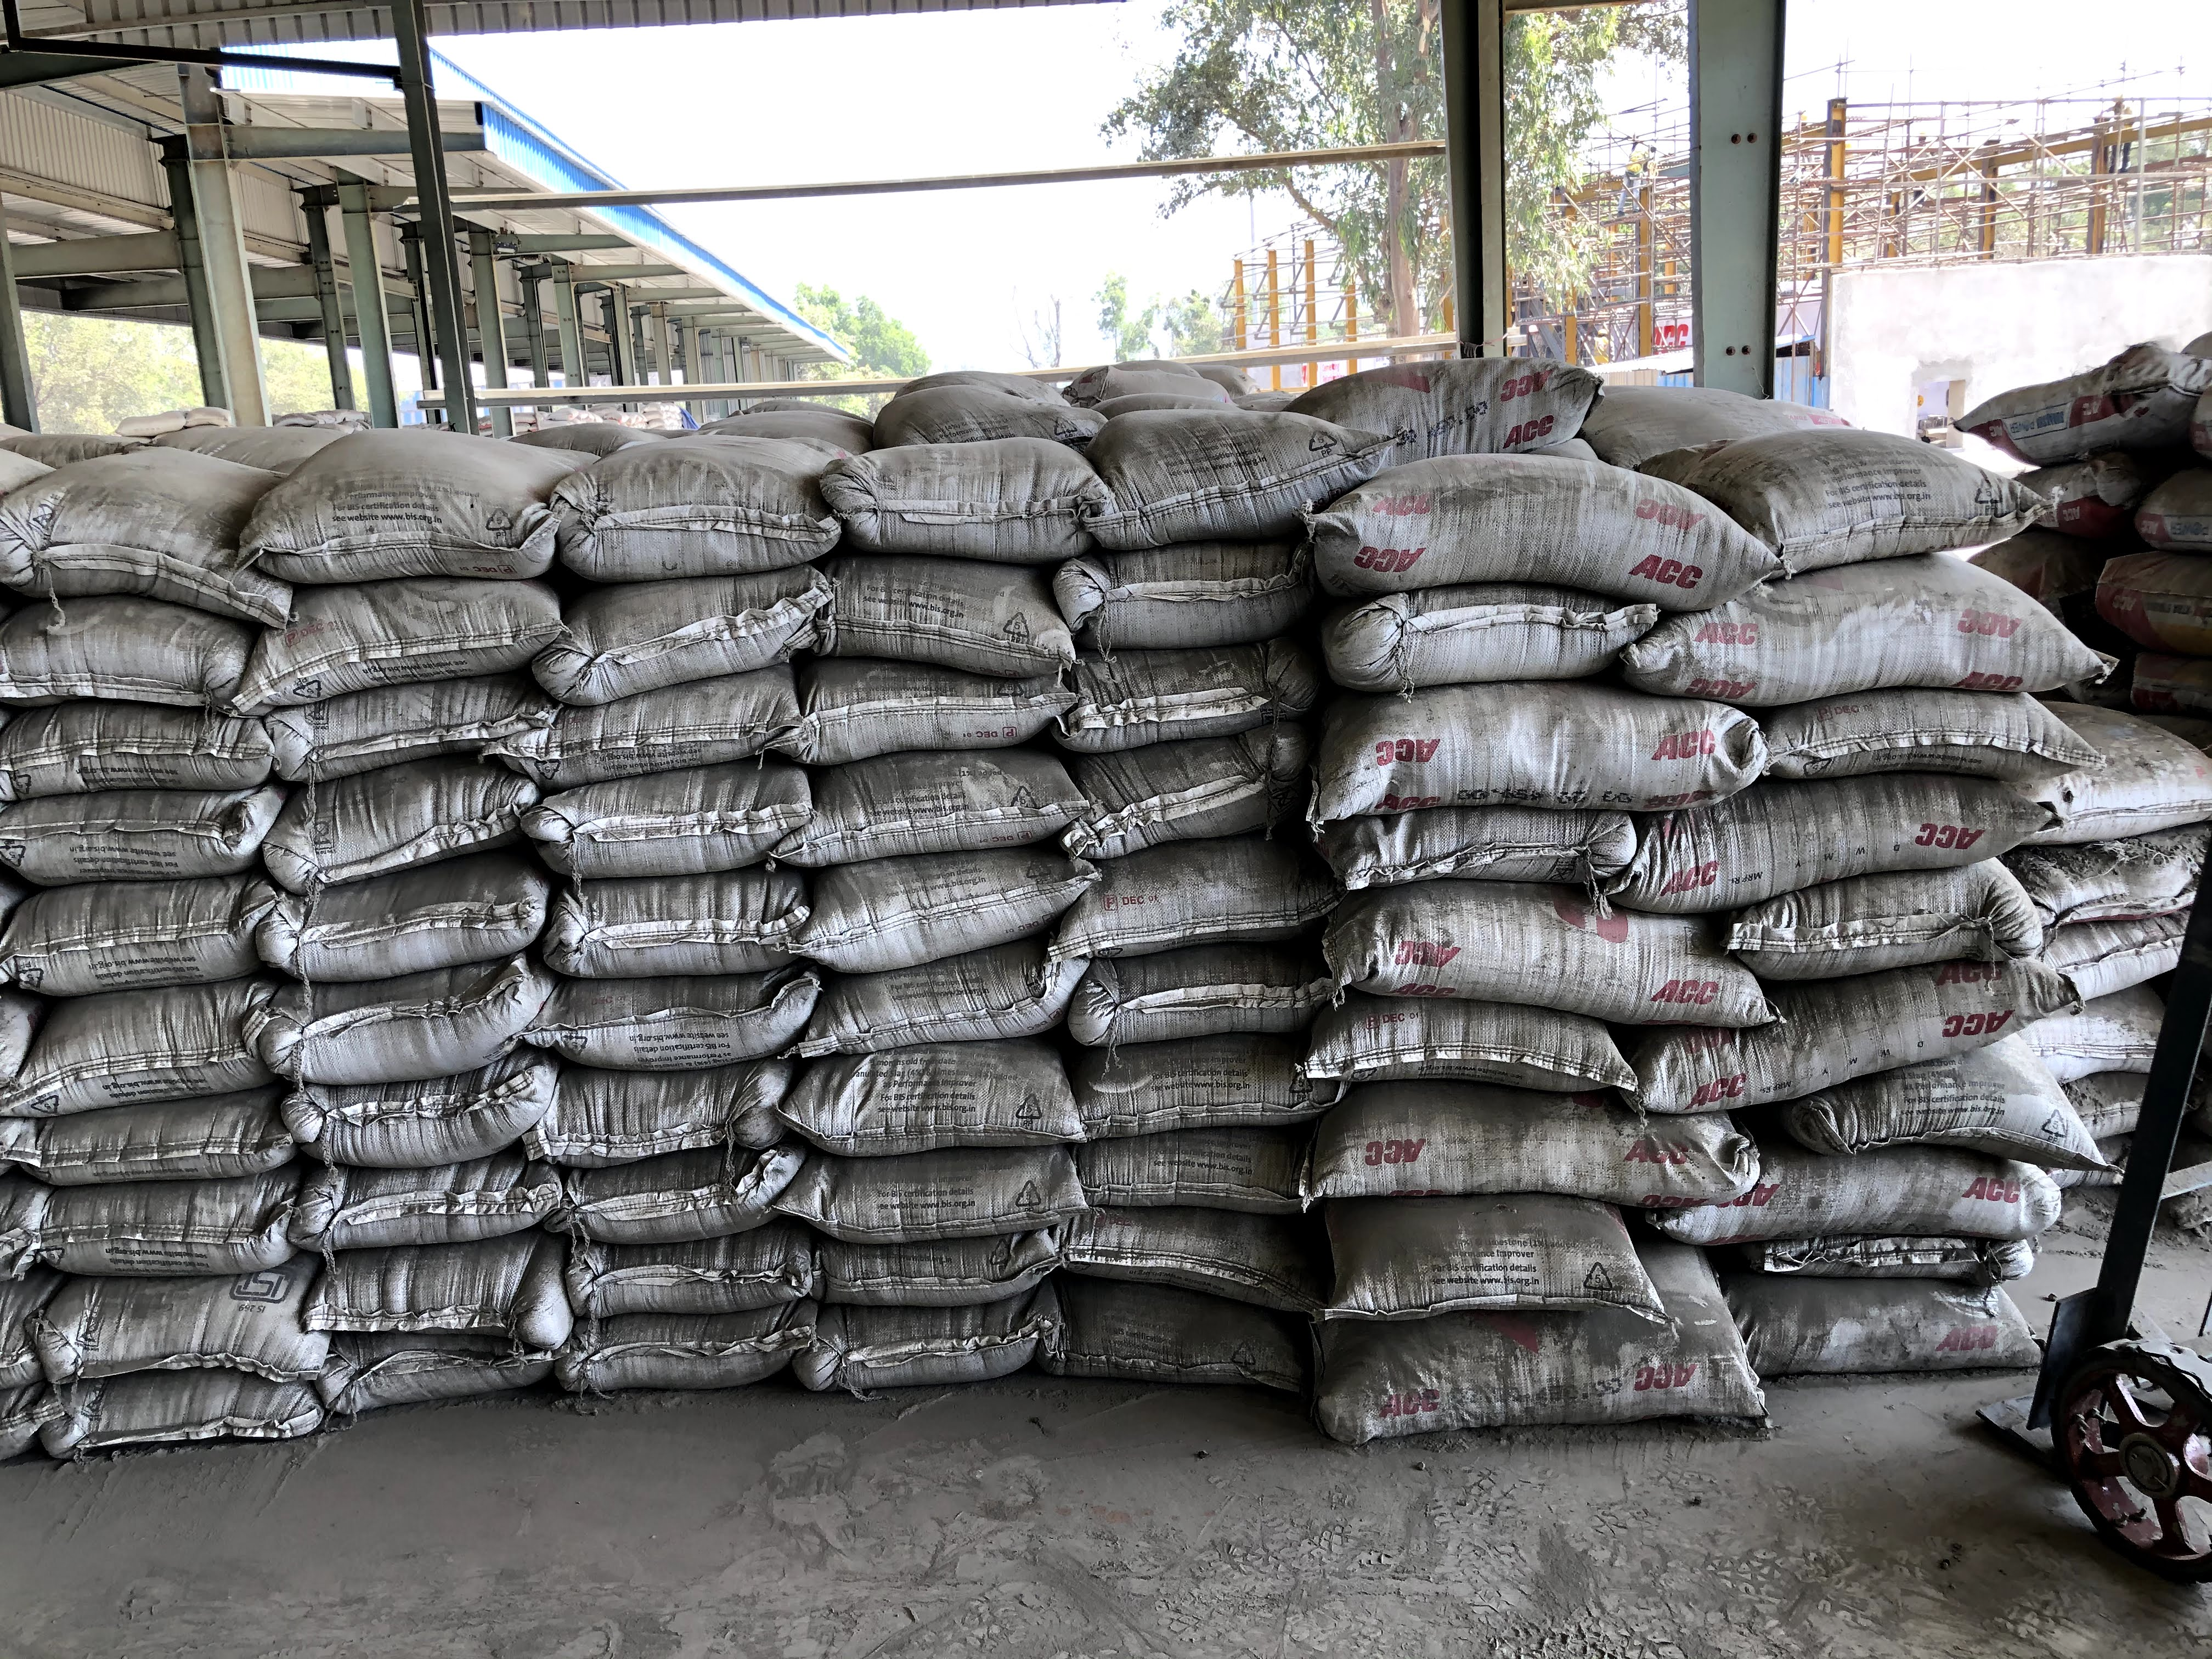cement bag: (1306, 448, 1791, 615), (1641, 962, 2088, 1119), (1611, 551, 2118, 687), (1298, 685, 1764, 821), (1329, 892, 1778, 1032), (223, 425, 583, 598), (0, 439, 307, 640), (1658, 423, 2060, 573), (1292, 1302, 1771, 1420), (1305, 1098, 1766, 1215), (1618, 772, 2064, 887), (1308, 1197, 1677, 1331), (528, 430, 866, 577), (1076, 404, 1404, 540), (1679, 1134, 2060, 1249), (228, 584, 571, 709), (813, 441, 1143, 568), (803, 852, 1094, 986), (17, 1270, 341, 1389), (7, 992, 303, 1121), (1730, 880, 2073, 988), (503, 763, 819, 878), (531, 577, 833, 697), (812, 948, 1096, 1072), (1754, 678, 2106, 777), (260, 775, 538, 899), (270, 965, 561, 1084), (779, 758, 1087, 868), (469, 678, 815, 775), (822, 558, 1087, 685), (0, 1180, 314, 1286), (1310, 795, 1648, 892), (1331, 587, 1662, 687), (0, 877, 293, 985), (782, 1054, 1094, 1155), (533, 871, 815, 983), (1306, 1007, 1635, 1101), (507, 972, 829, 1068), (1040, 1290, 1313, 1401), (1043, 857, 1360, 953), (1042, 535, 1329, 640), (1702, 1290, 2038, 1378), (2, 1096, 312, 1192), (1059, 640, 1332, 748), (1064, 1215, 1336, 1321), (319, 1246, 594, 1351), (787, 667, 1082, 765), (782, 1148, 1090, 1241), (1061, 732, 1301, 849), (12, 1370, 347, 1453), (300, 1066, 566, 1171), (789, 1291, 1068, 1389), (265, 699, 564, 789), (287, 1161, 578, 1253), (0, 613, 254, 713), (303, 878, 557, 976), (1080, 1049, 1352, 1140), (528, 1063, 780, 1157), (9, 795, 265, 885), (300, 1328, 575, 1408), (543, 1155, 799, 1241), (1066, 962, 1359, 1035), (805, 1227, 1066, 1309), (563, 1237, 819, 1317), (552, 1316, 826, 1389), (1085, 1134, 1318, 1216), (1749, 1220, 2003, 1291), (0, 721, 284, 777)
